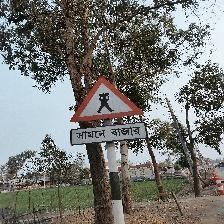Market-in-front: (69, 76, 147, 146)
